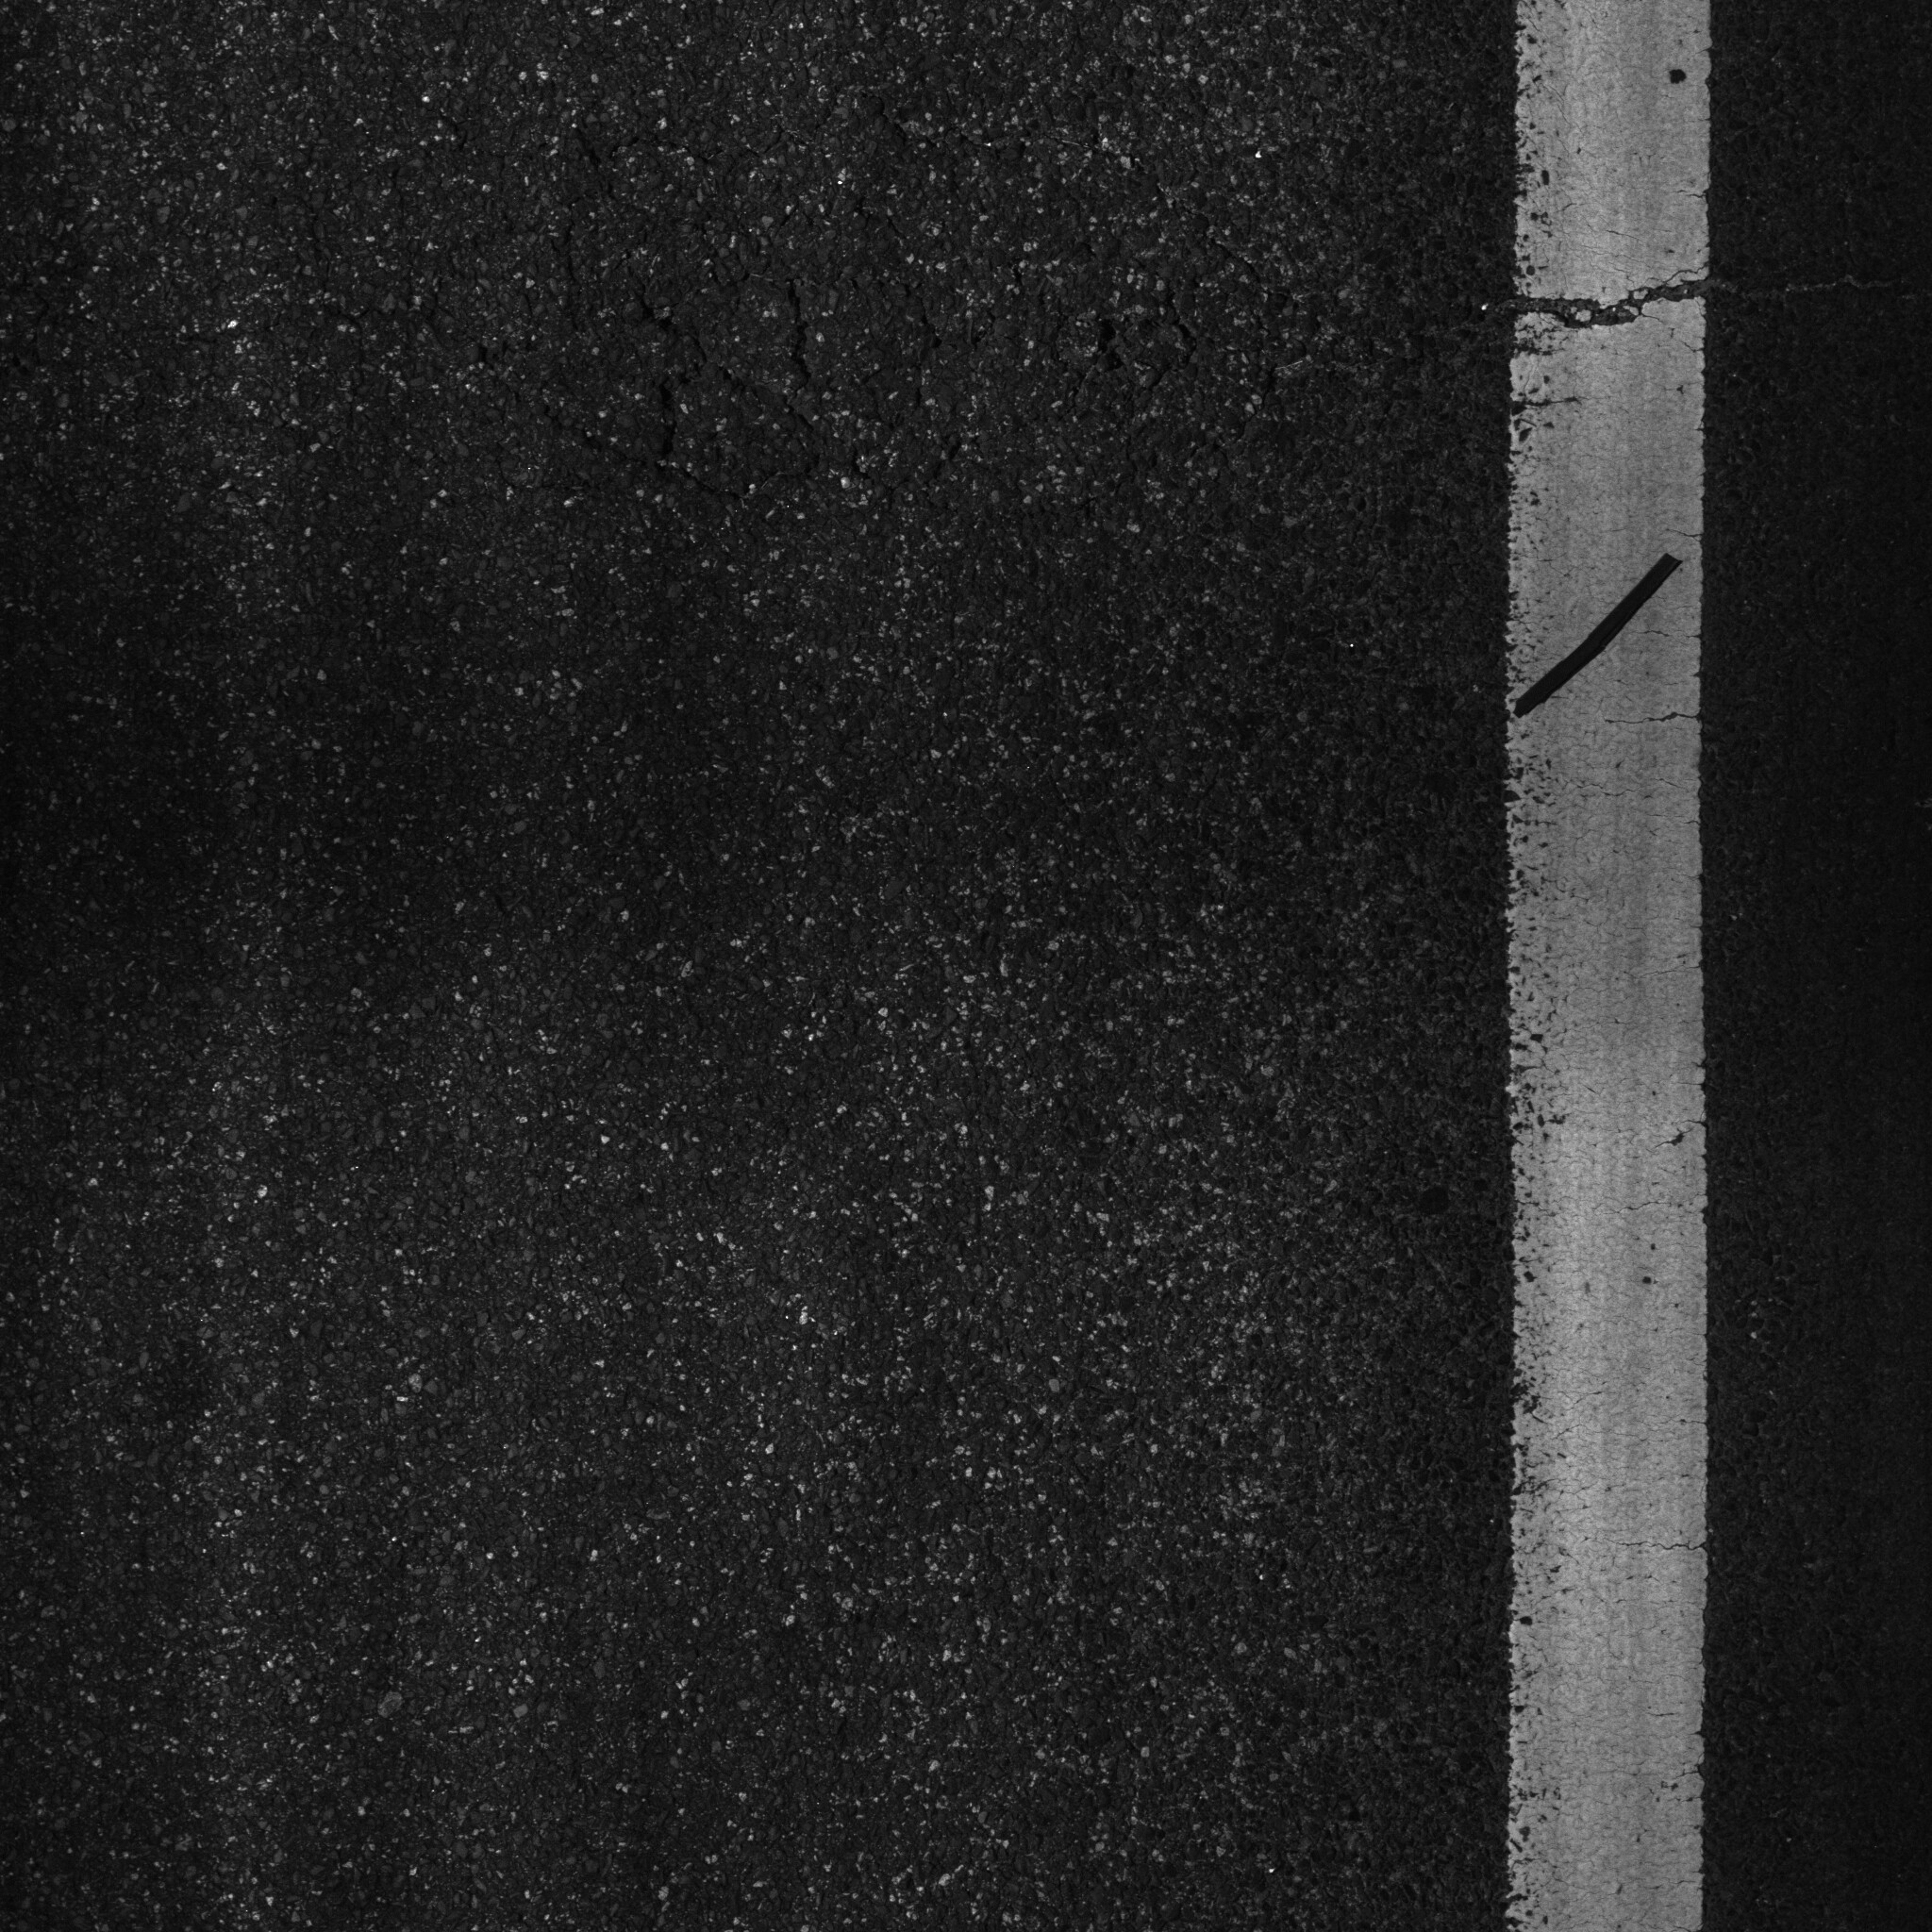transverse: (1014, 241, 1932, 391)
